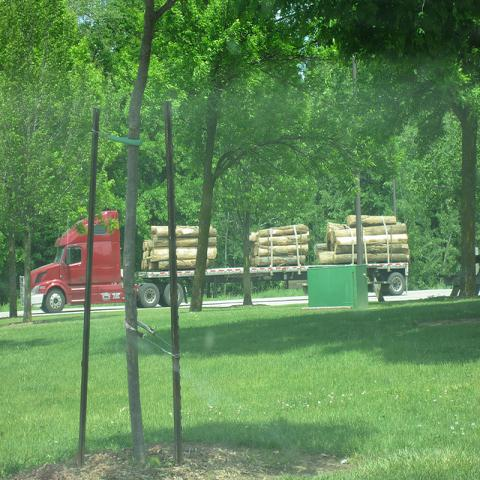truck: (20, 210, 410, 312)
